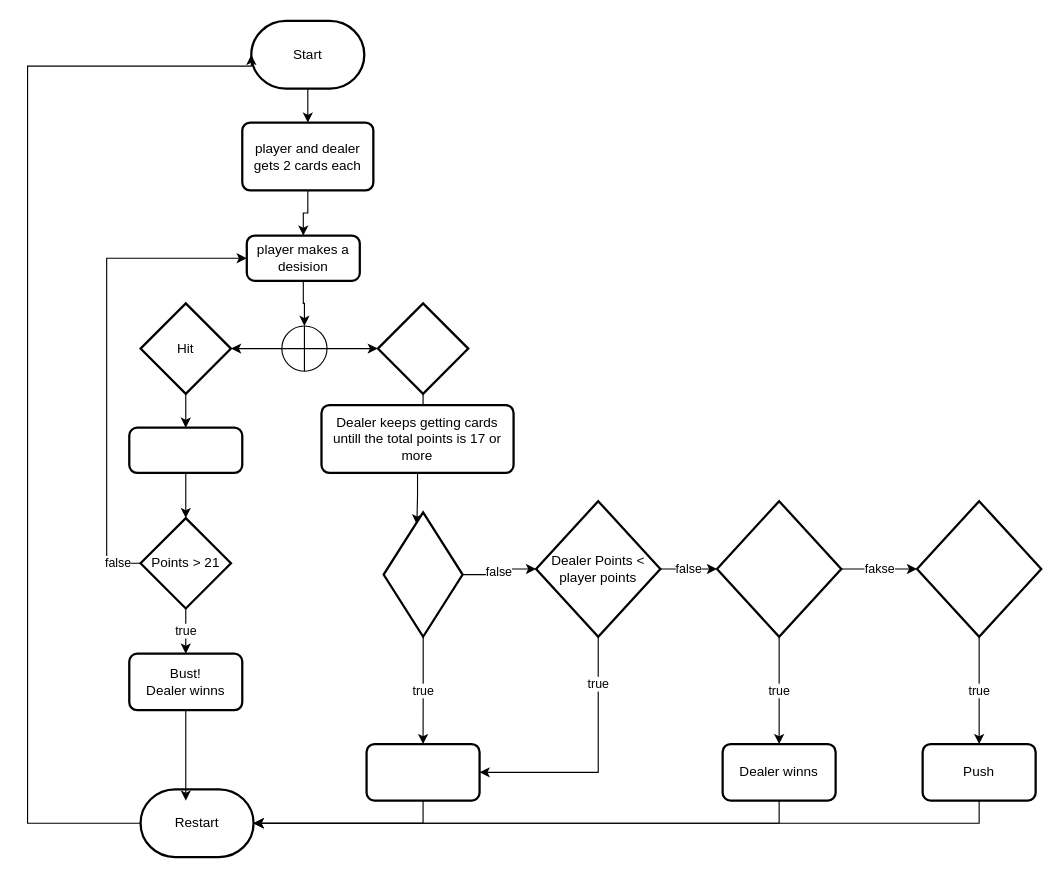
This 1062x877 diagram has some shape labels left out. Each missing label, with the centre of its shape:
Deader Points > 21: the point at 422,574
Dealer Points == player points: the point at 978,568
Dealer Points > player points: the point at 778,568
Player get a new card: the point at 185,449
Player winns: the point at 422,771
Stand: the point at 422,348
